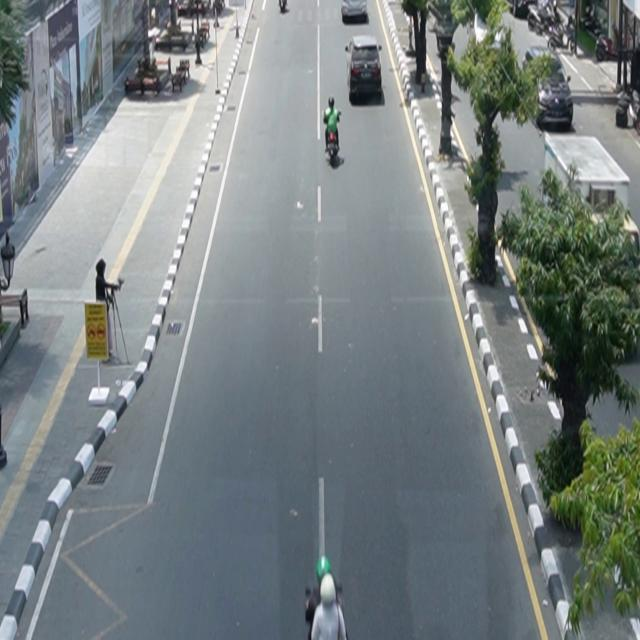car: (523, 46, 574, 131), (346, 36, 383, 101), (341, 1, 368, 22)
